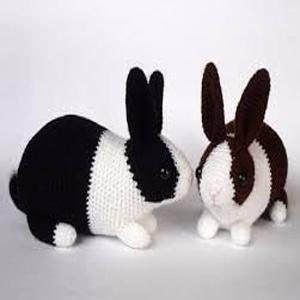rabbit: (16, 63, 288, 251)
